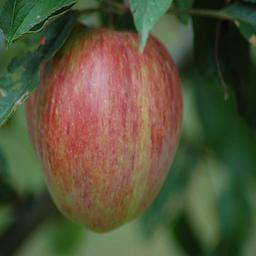apple: (28, 28, 184, 235)
